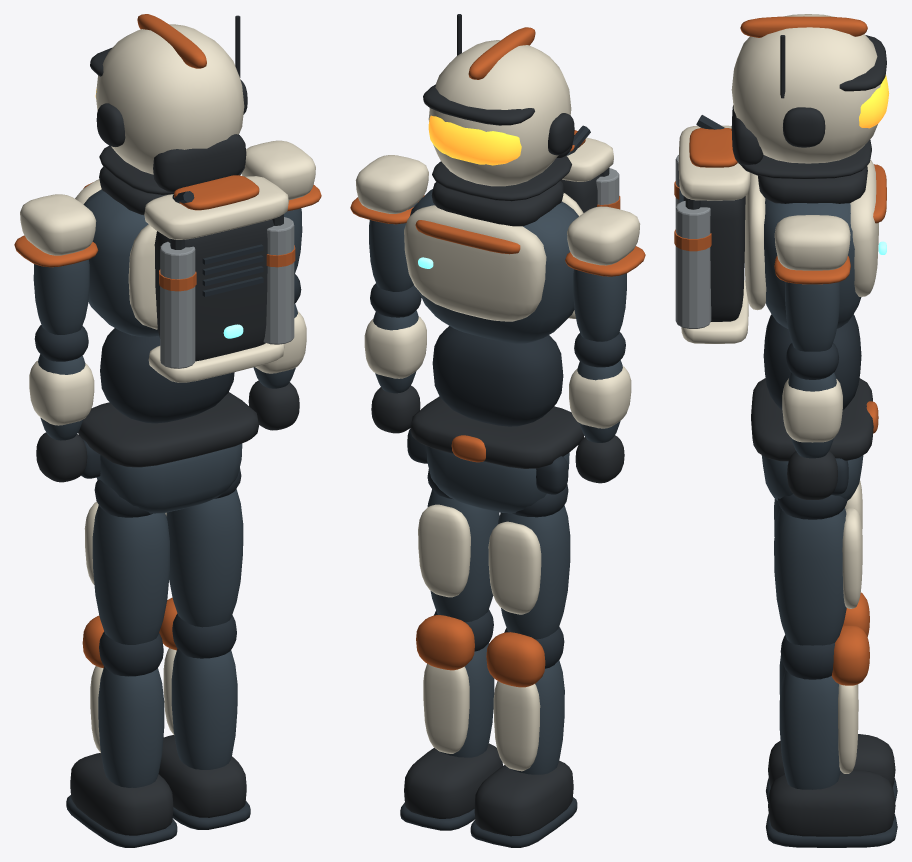
File: juno.glb
The picture shows the model from 3 angles, left to right: view 1: azimuth 30°, elevation 25°; view 2: azimuth 150°, elevation 25°; view 3: azimuth 270°, elevation 25°; orthographic projection. The views are drawn at different scales.
Visible parts, largest first — view 1: helmet, thighL, thighR, life_support, belt, shinR, shinL, abdomen, pelvis, torso, bootL, pack_frame (+32 smaller); view 2: chest_plate, helmet, abdomen, belt, torso, bootL, bootR, pelvis, thighL, thigh_plateL, thigh_plateR, thighR (+37 smaller); view 3: helmet, thighR, bootR, shinR, belt, life_support, tank_r, pauldronR, torso, abdomen, upper_armR, bracerR (+27 smaller).
Part boxes in pixels (x1,y1,x2,y2): helmet: (96, 24, 244, 174); thighL: (92, 505, 169, 644); thighR: (166, 489, 243, 627); life_support: (154, 219, 273, 361); belt: (78, 392, 258, 467); shinR: (171, 648, 237, 769); shinL: (98, 666, 164, 787); abdomen: (100, 328, 234, 423); pelvis: (96, 443, 242, 513); torso: (83, 189, 159, 336); bootL: (70, 753, 173, 835); pack_frame: (144, 176, 288, 239); chest_plate: (404, 205, 546, 321); helmet: (428, 40, 571, 186); abdomen: (432, 326, 563, 426); belt: (410, 396, 584, 468); torso: (410, 189, 578, 343); bootL: (474, 760, 573, 836); bootR: (404, 743, 502, 818); pelvis: (426, 446, 569, 513); thighL: (498, 505, 570, 639); thigh_plateL: (488, 521, 541, 614); thigh_plateR: (418, 504, 470, 597); thighR: (427, 489, 499, 622); helmet: (731, 14, 880, 163); thighR: (774, 507, 846, 645); bootR: (768, 769, 895, 836); shinR: (779, 670, 840, 789); belt: (751, 378, 873, 461); life_support: (683, 196, 745, 321); tank_r: (675, 201, 711, 328); pauldronR: (774, 215, 850, 270); torso: (764, 198, 861, 328); abdomen: (763, 314, 861, 409); upper_armR: (785, 282, 839, 351); bracerR: (782, 378, 842, 442).
Bounding box in the file's own units: 0.79 × 2.1 × 0.525.
